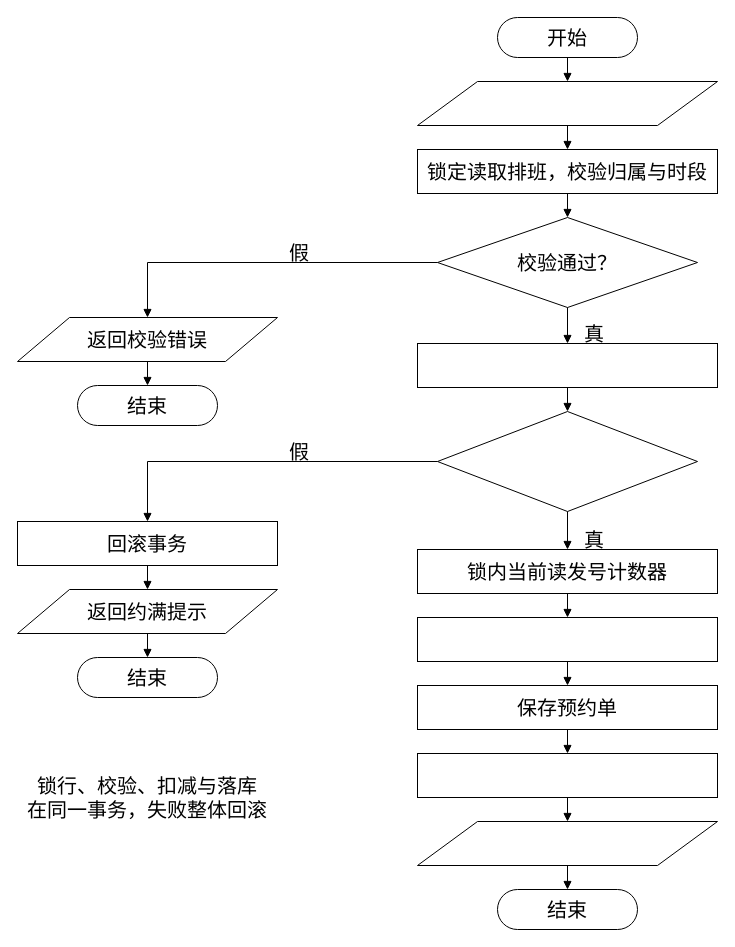
The diagram is 735 pixels wide and 947 high, and some of its shapes have lost their labels. The shapes that lost their labels are listed below. From the top down, each one's box as (x1, y1, x2, y2) in pixels, then its label:
(416, 80, 718, 126): 提交预约信息
(416, 342, 718, 388): 条件扣减号源并递增发号计数
(436, 410, 698, 512): 影响行数 为1？
(416, 616, 718, 662): 取本单排队序号
(416, 752, 718, 798): 提交事务
(416, 820, 718, 866): 返回预约详情
